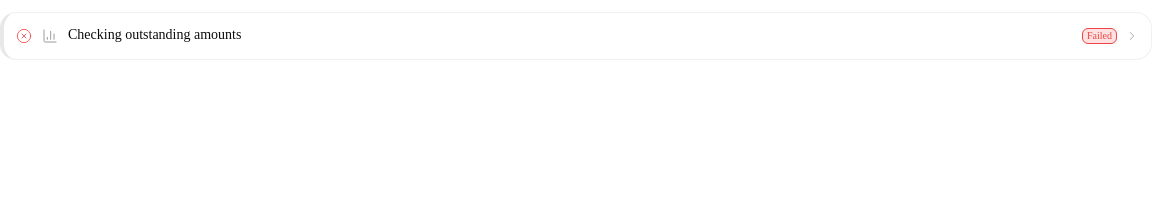
ToolStepCard rendering › expands to show error on click
Expected: the text "Error" is not shown
Click the button. click: (155, 34)
box: [4, 13, 1151, 59]
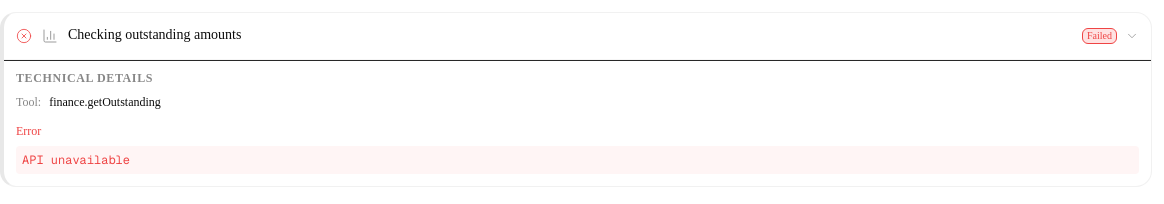
Expected: the text "Error" is shown, [16, 124, 41, 138]
Expected: the text "API unavailable" is shown, [16, 146, 1139, 174]
